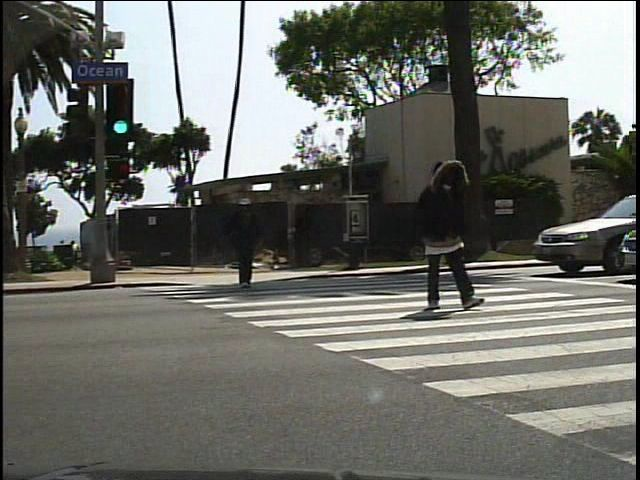person: (406, 153, 489, 318), (227, 194, 264, 295)
